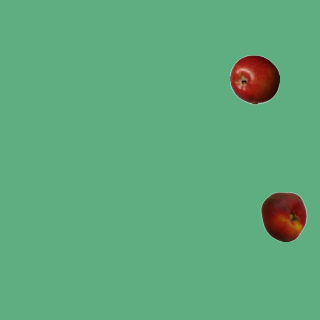Apple Braeburn: (229, 54, 279, 104)
Nectarine Flat: (258, 191, 308, 241)
